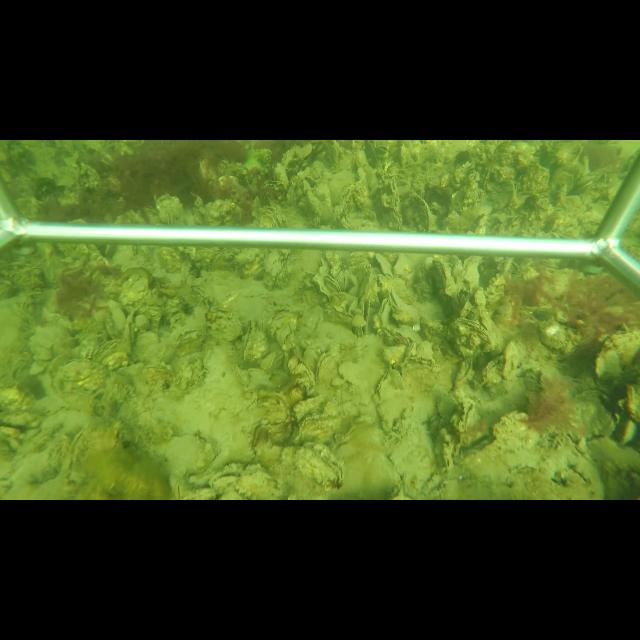Oyster-Closed: (593, 327, 640, 381), (430, 259, 462, 318), (450, 316, 489, 352), (407, 193, 434, 232), (389, 288, 418, 324), (210, 310, 242, 342), (88, 337, 128, 360), (315, 352, 336, 384), (242, 320, 257, 362), (338, 182, 354, 221), (389, 176, 402, 220), (259, 350, 282, 370), (389, 369, 407, 390), (377, 297, 390, 326), (375, 253, 392, 275), (324, 274, 342, 293)
Oyster-Open: (360, 266, 377, 330), (207, 468, 238, 490)
